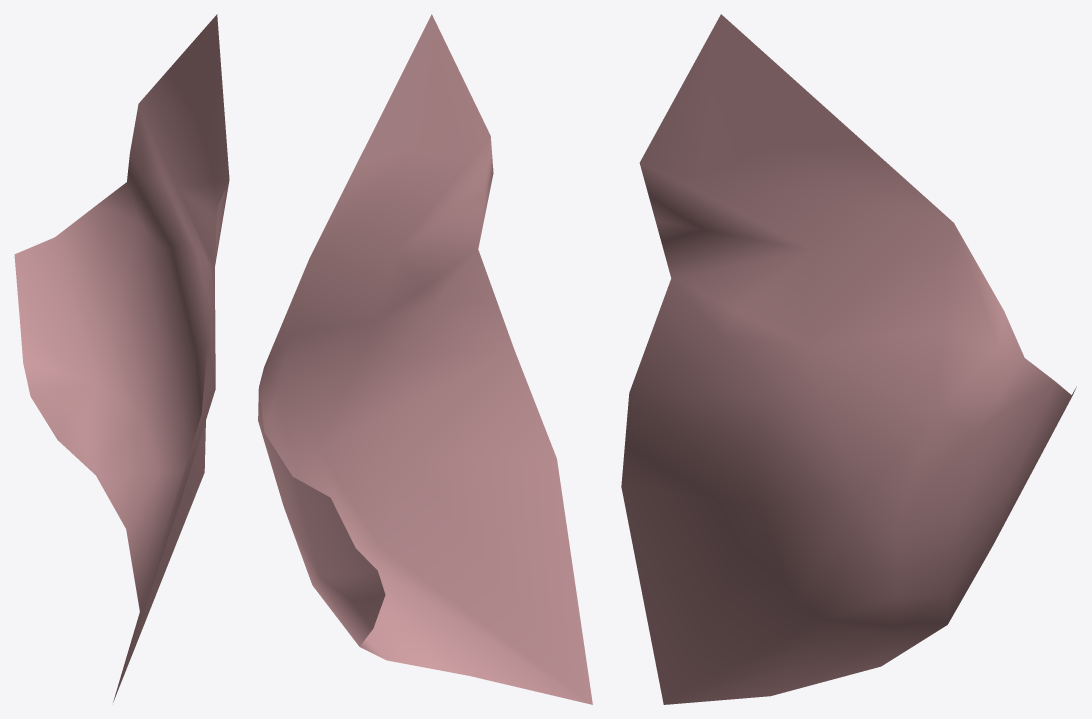
The picture shows the model from 3 angles, left to right: view 1: azimuth 30°, elevation 25°; view 2: azimuth 150°, elevation 25°; view 3: azimuth 270°, elevation 25°; orthographic projection. The views are drawn at different scales.
Parts seen in each view (by area): view 1: ZA_0dc3c7339eb2c24d; view 2: ZA_0dc3c7339eb2c24d; view 3: ZA_0dc3c7339eb2c24d.
Part boxes in pixels (x1,y1,x2,y2): ZA_0dc3c7339eb2c24d: (14, 14, 229, 702); ZA_0dc3c7339eb2c24d: (258, 14, 592, 704); ZA_0dc3c7339eb2c24d: (621, 14, 1076, 704).
Bounding box in the file's own units: 0.00624 × 0.0207 × 0.0112.
